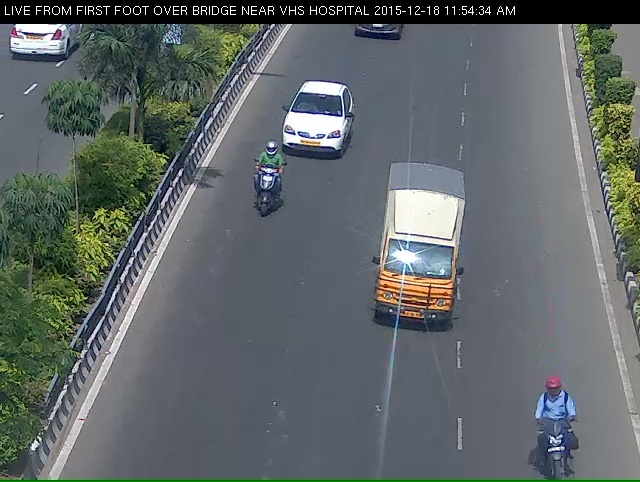Car: (367, 170, 462, 344), (266, 85, 356, 170)
Person: (241, 154, 278, 252)
